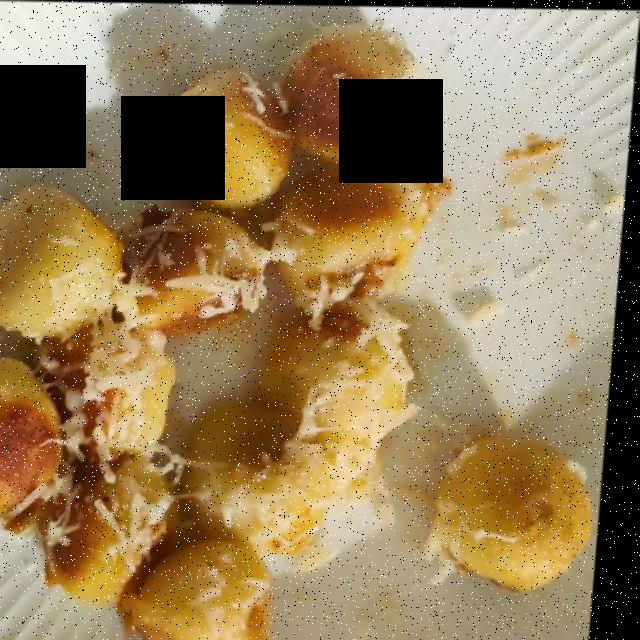cheese: (49, 215, 417, 622), (137, 301, 327, 475)
